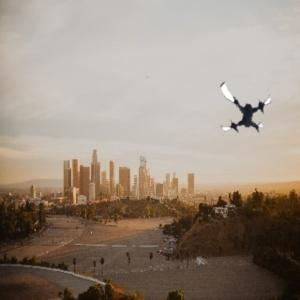drone: (212, 76, 276, 140)
